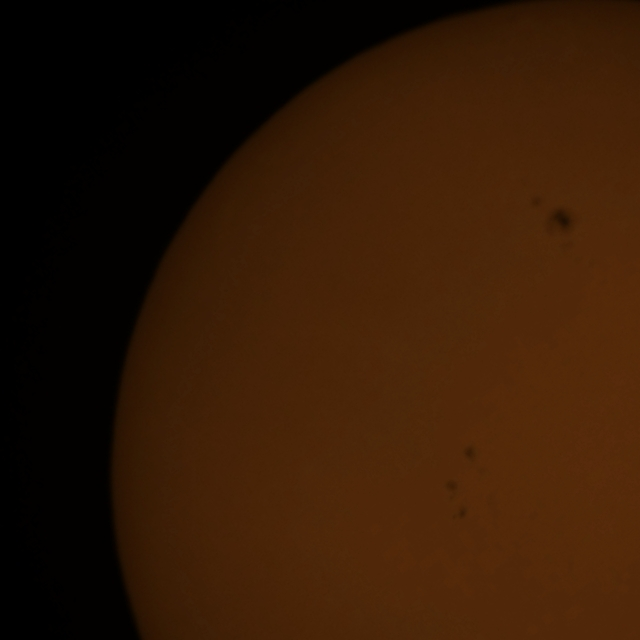sunspot: (442, 476, 468, 521), (548, 208, 574, 237), (442, 478, 460, 501), (462, 442, 478, 464), (450, 505, 468, 524), (528, 193, 544, 212)
